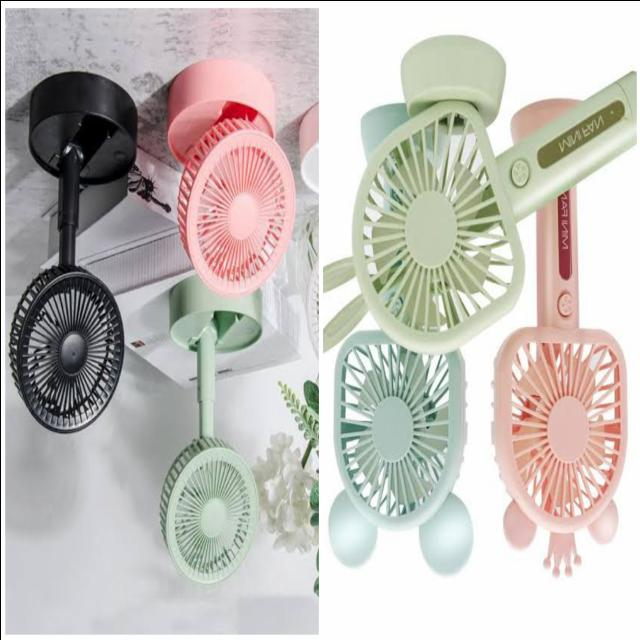fan: (8, 70, 635, 585)
